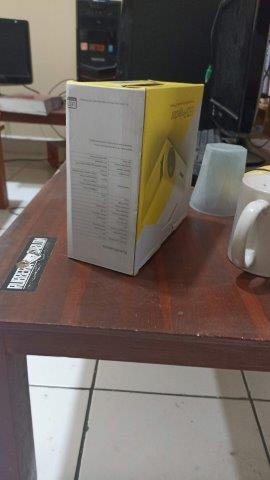kardus: (66, 80, 205, 275)
